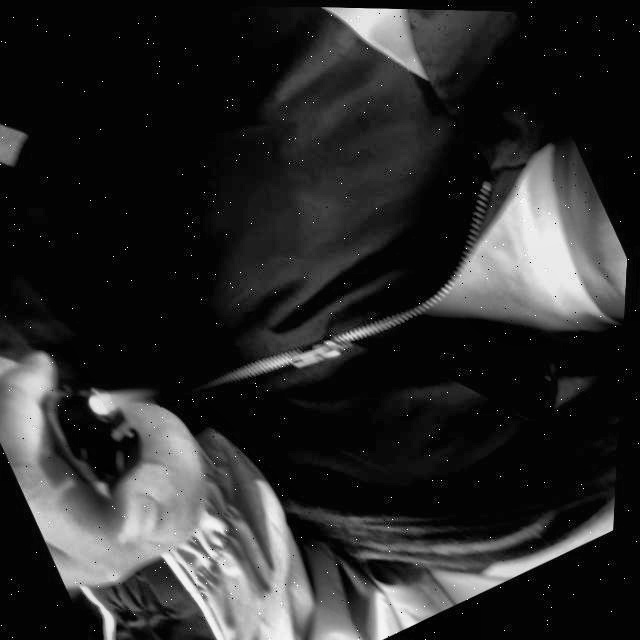Fire: (95, 363, 168, 423)
